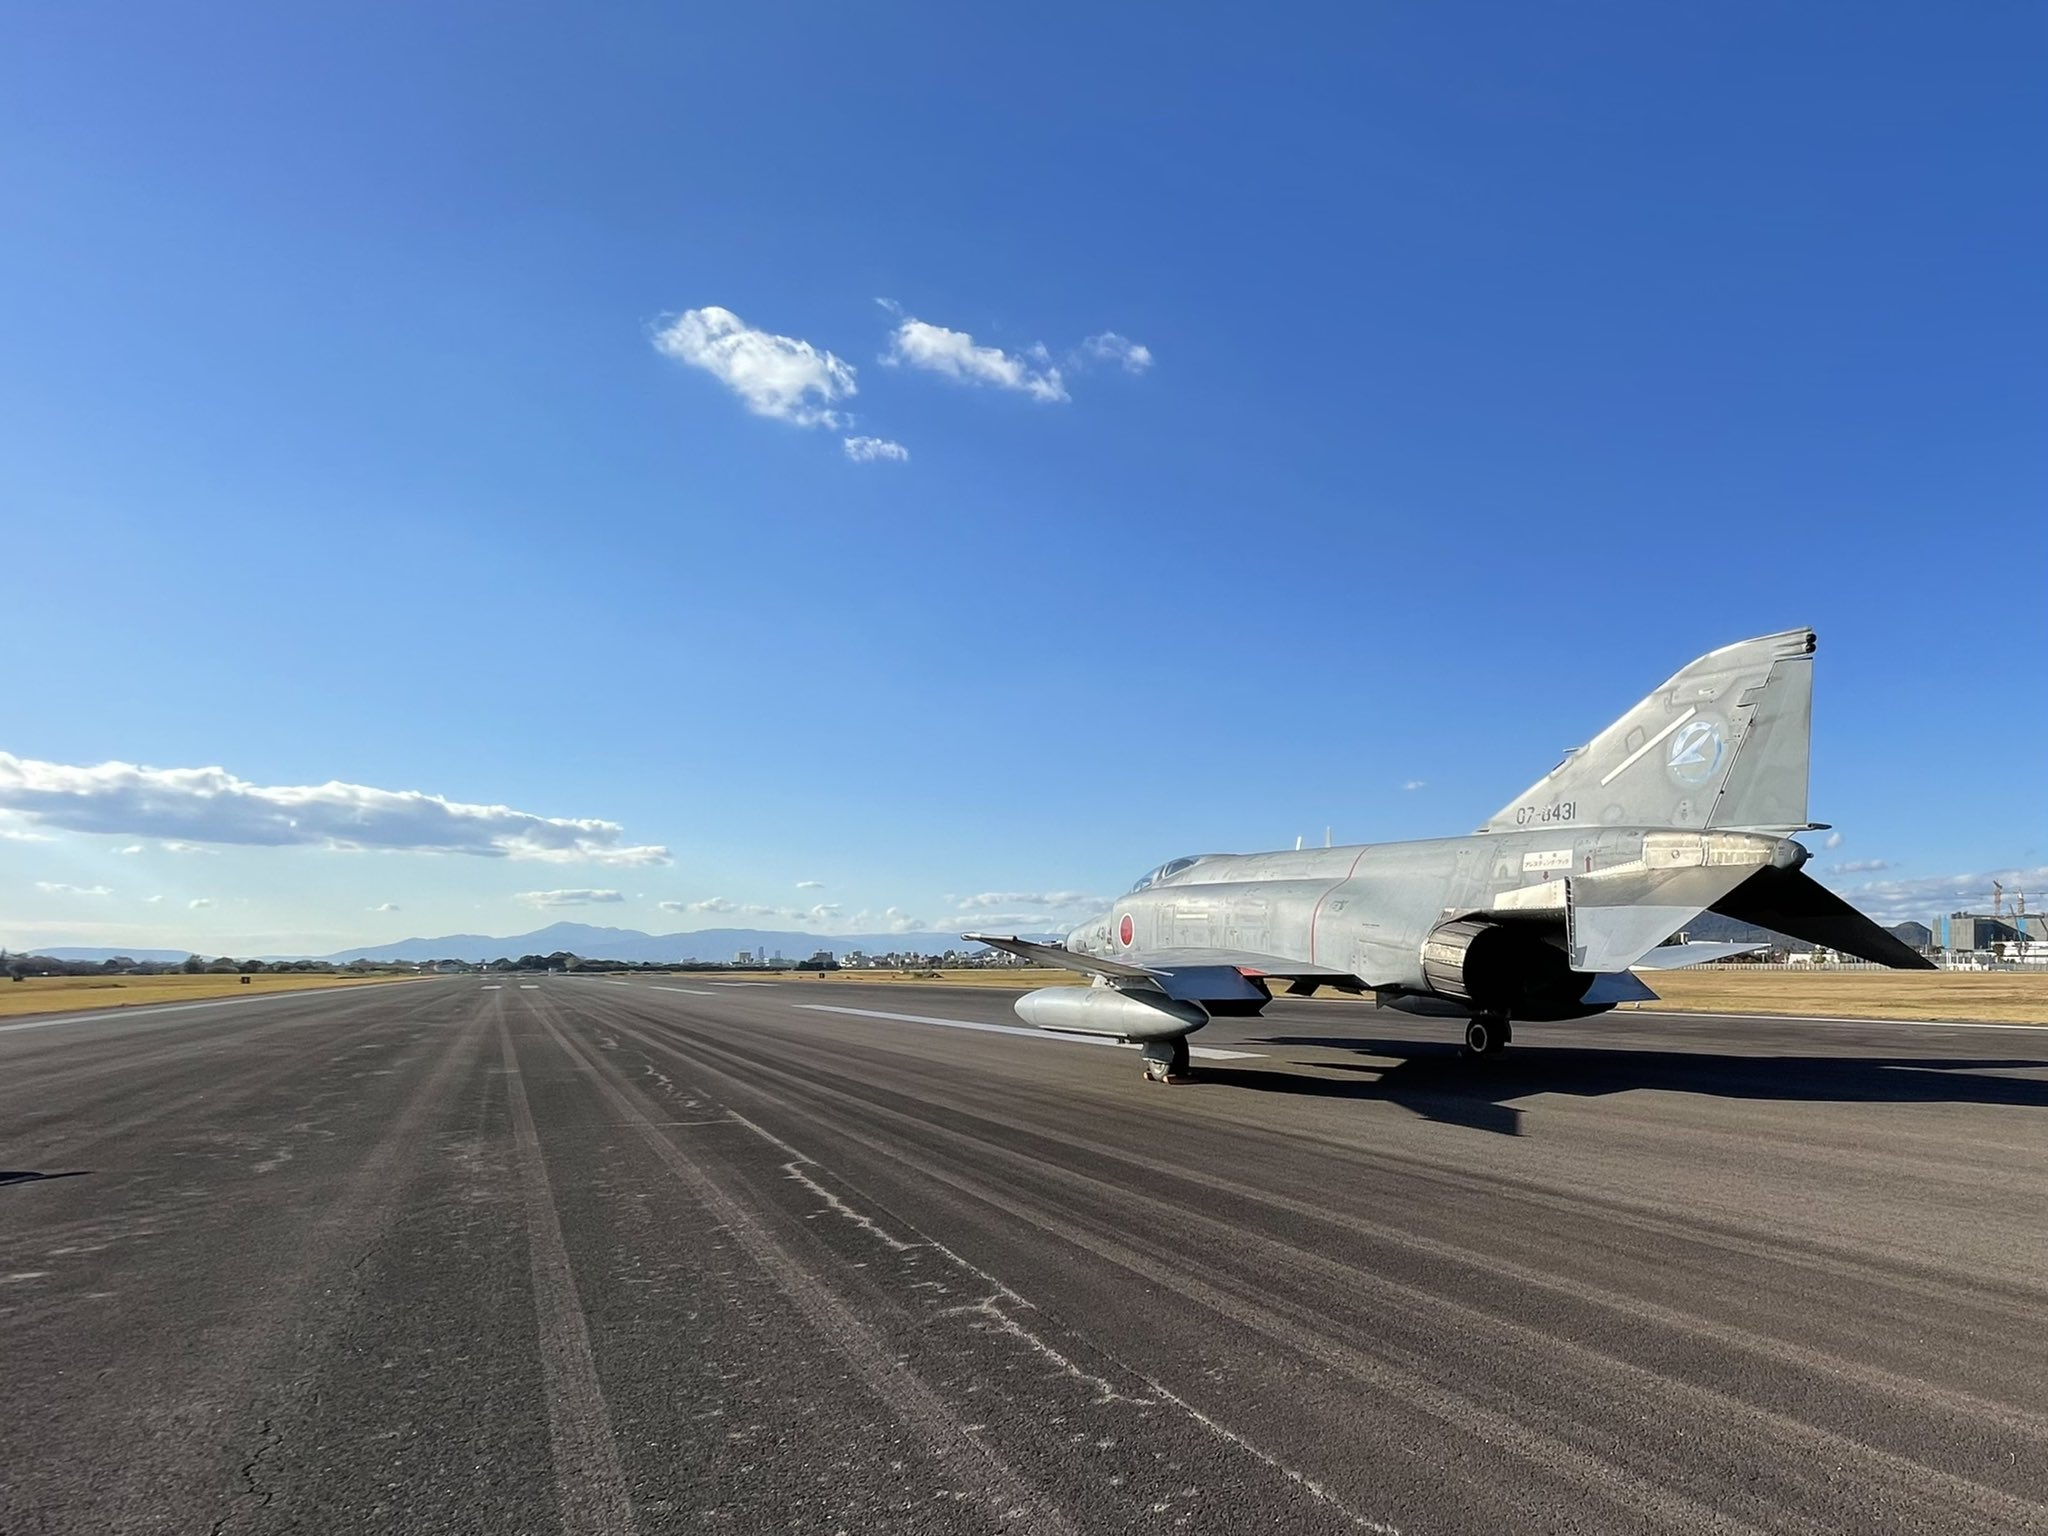F4: (959, 626, 1942, 1081)
